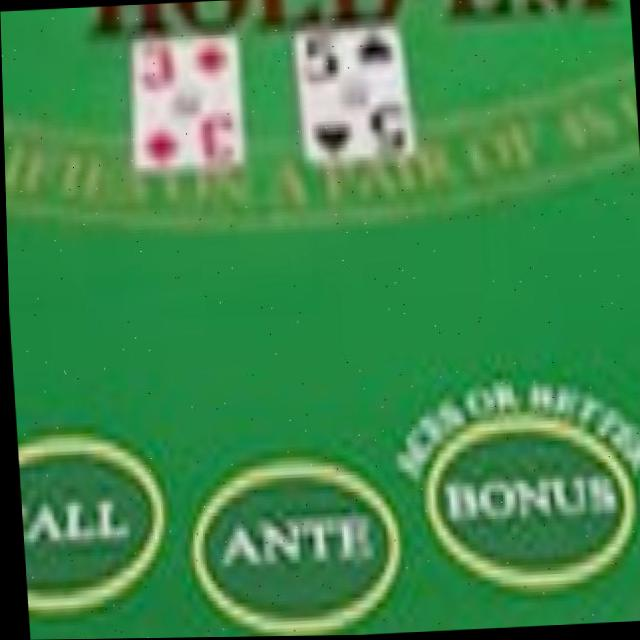Card-3: (130, 35, 242, 168)
Card-5: (296, 26, 410, 167)
